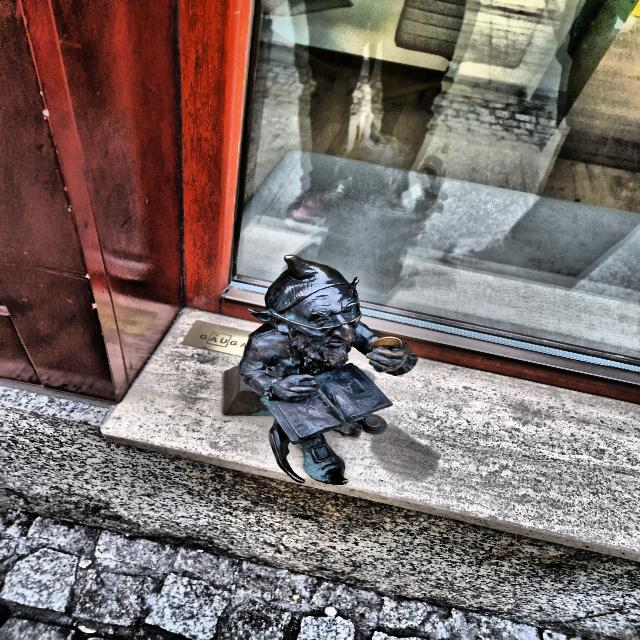Gaugan: (223, 255, 418, 486)
